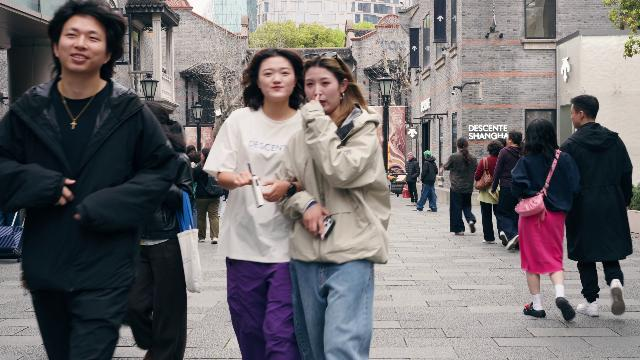person: (0, 0, 193, 360), (264, 52, 390, 360), (202, 46, 310, 360), (558, 94, 634, 318), (509, 118, 579, 322), (489, 130, 527, 251), (439, 137, 479, 236), (474, 139, 504, 244), (411, 150, 438, 212), (404, 152, 421, 207)
